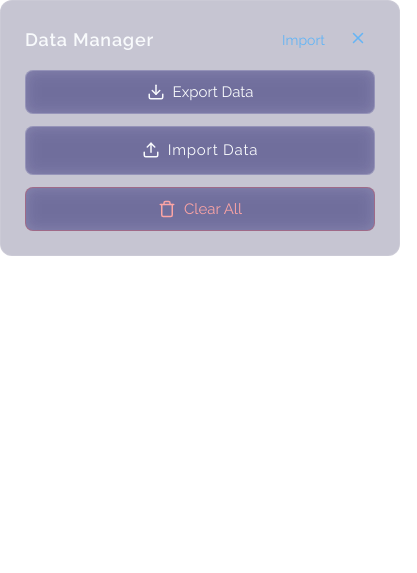
Test case: DataManager › opens and closes import panel
Step 1. Click the button "Import" → {"x": 304, "y": 40}, box [274,28,333,52]
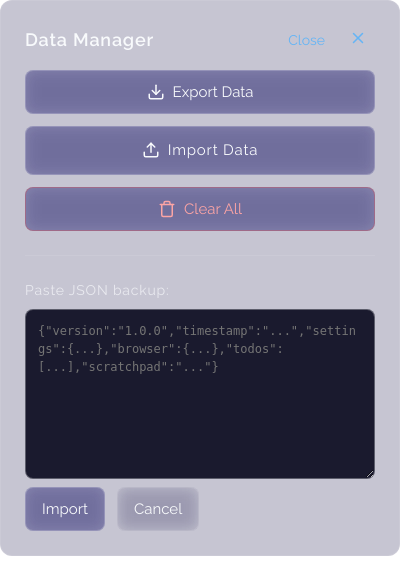
Check: the text "Paste JSON backup:" is shown, box [25,280,375,478]
Step 2. Click the button "Close" → {"x": 307, "y": 40}, box [280,28,333,52]
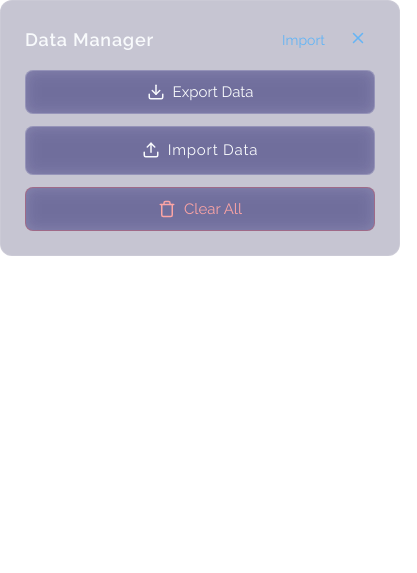
Check: the text "Paste JSON backup:" is gone
